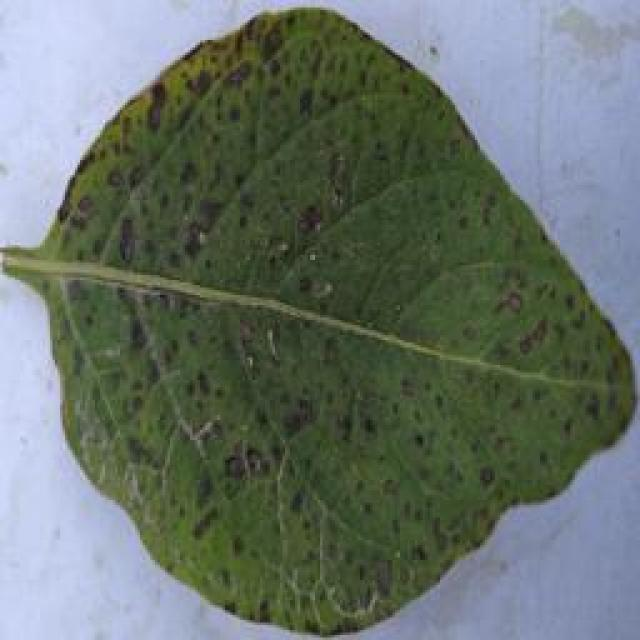Potato_Early_Blight: (25, 8, 640, 638)
